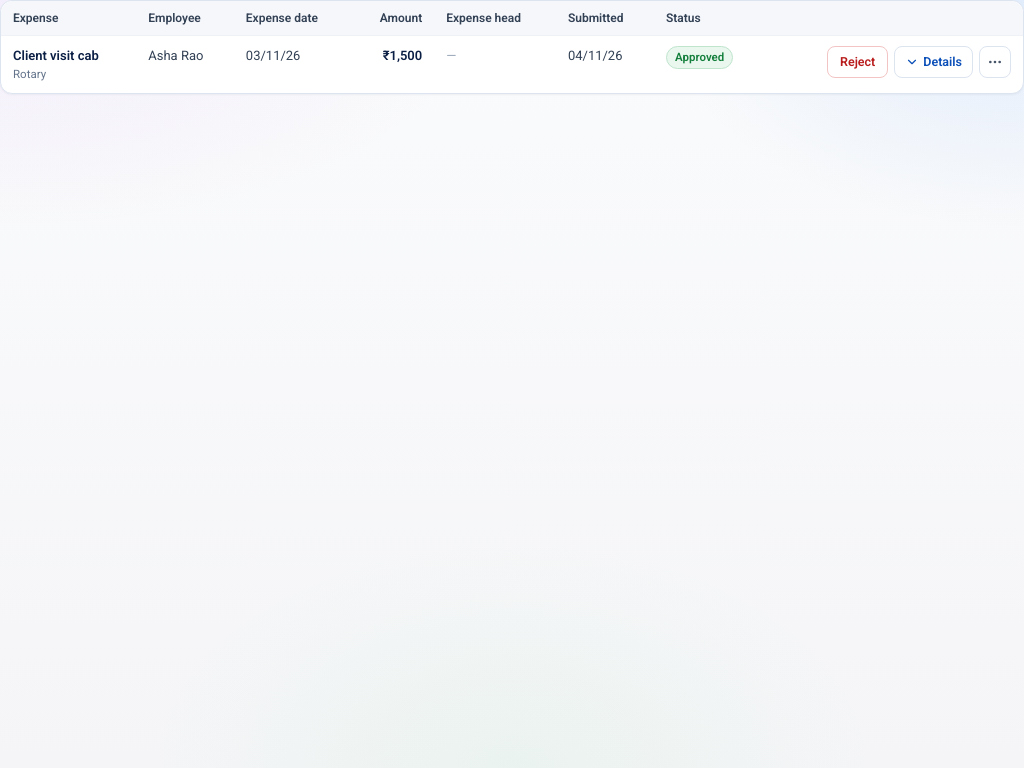
Reimbursements table › Details opens every request field, the review and (for admins) the response form
Click the button "Details" at (934, 62), box [894,46,973,78]
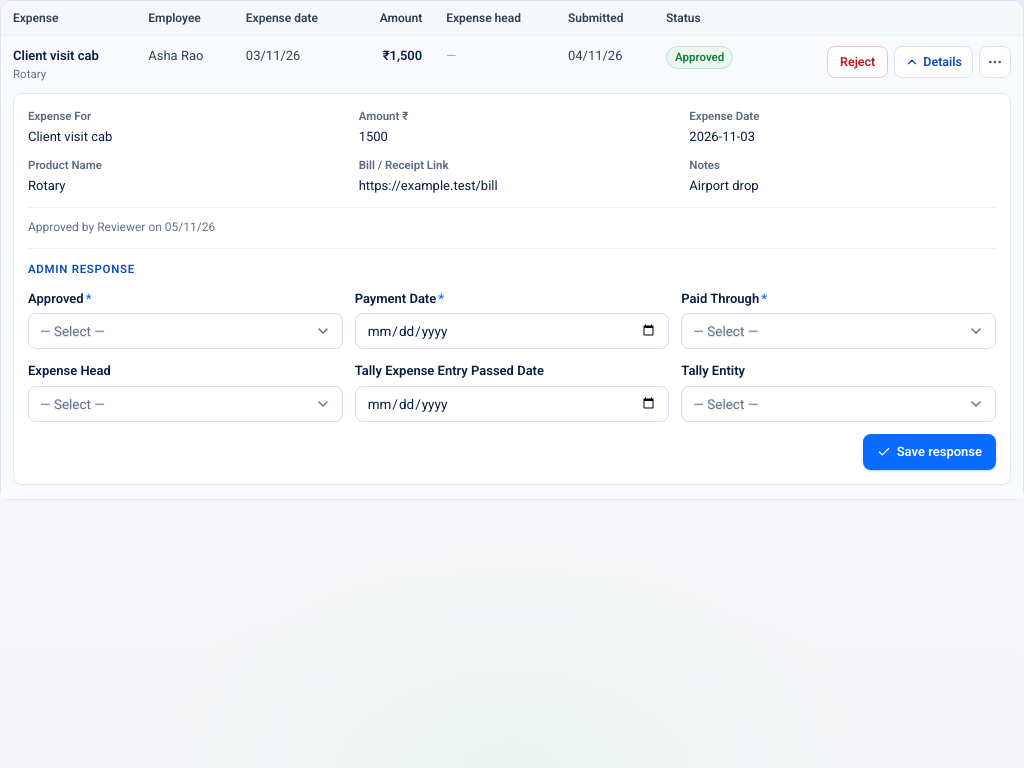
expect the text "Expense For" is shown: met, box [28,109,91,123]
expect the text "Amount ₹" is shown: met, box [359,109,408,123]
expect the text "Expense Date" is shown: met, box [689,109,759,123]
